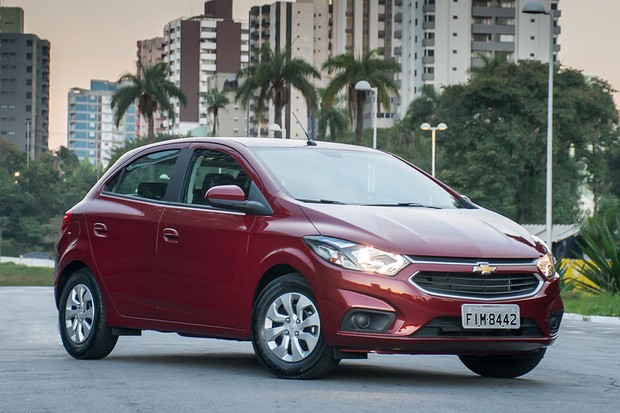Carro: (54, 132, 566, 383)
